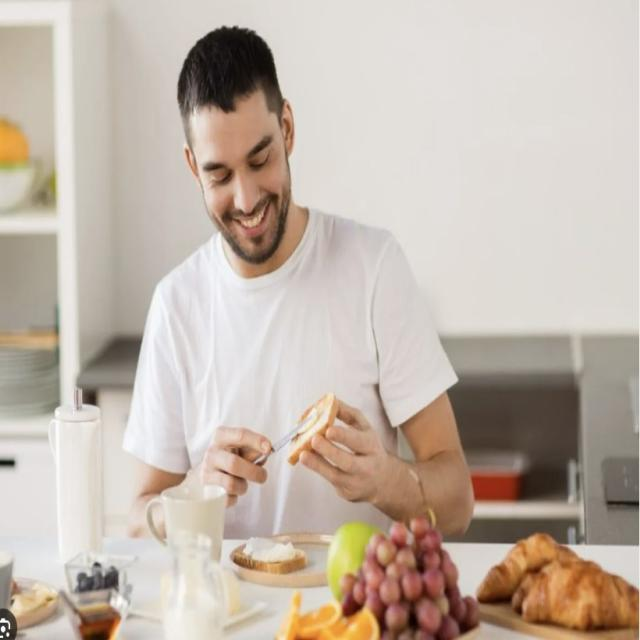eating-person: (122, 11, 489, 640)
